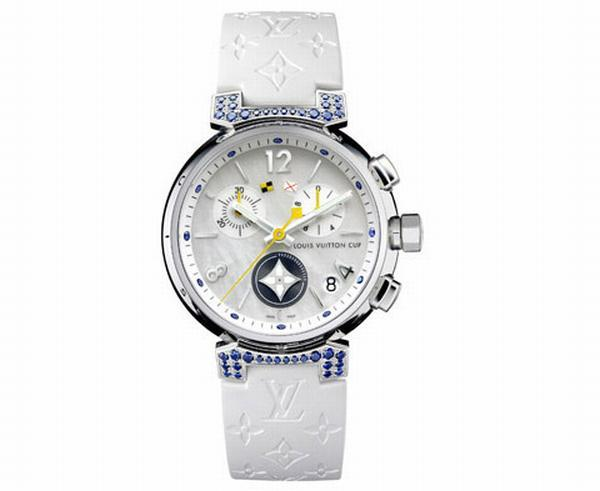LOUIS-VUITTON: (259, 377, 307, 423), (259, 16, 304, 40)
